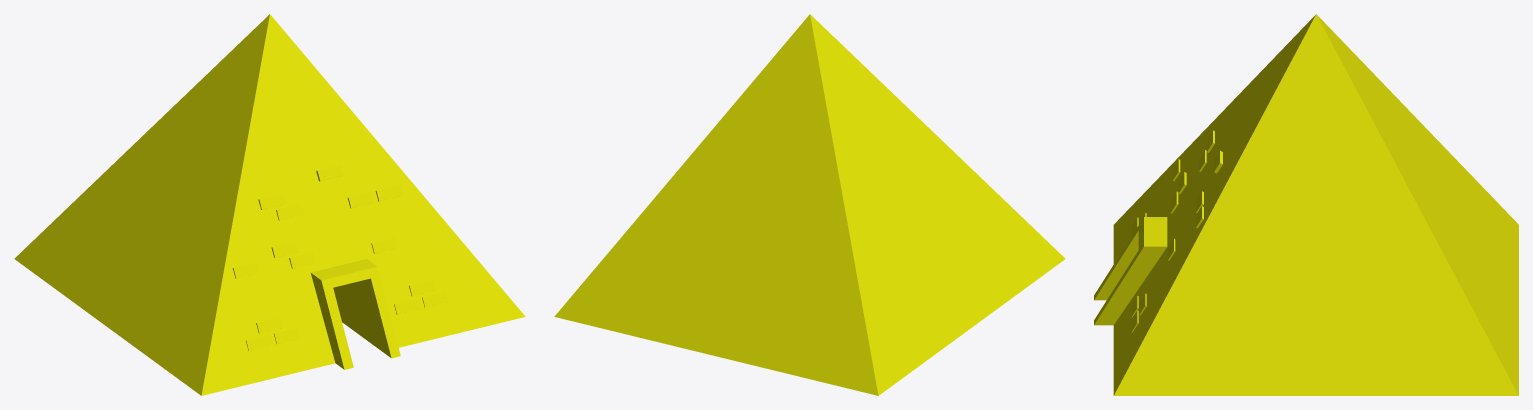
3 renders of one model, left to right at view 1: azimuth 30°, elevation 25°; view 2: azimuth 150°, elevation 25°; view 3: azimuth 270°, elevation 25°, orthographic. The views are drawn at different scales.
Parts seen in each view (by area): view 1: kimtuthap; view 2: kimtuthap; view 3: kimtuthap.
Part boxes in pixels (x1,y1,x2,y2): kimtuthap: [14, 14, 525, 395]; kimtuthap: [554, 14, 1065, 395]; kimtuthap: [1094, 14, 1518, 395].
Bounding box in the file's own units: 7 × 5.65 × 7.34.
1 material, 1 textured.
